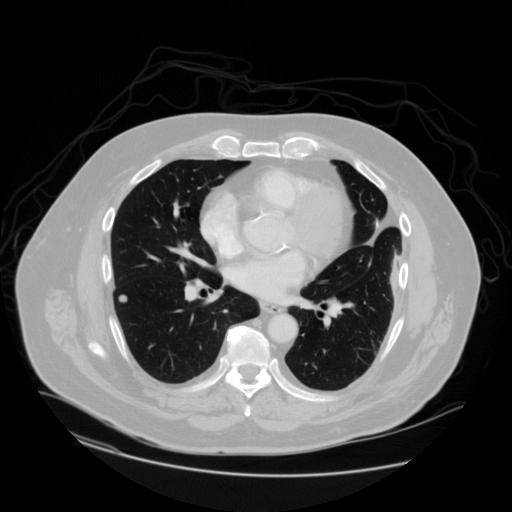nodule: (116, 292, 130, 306)
